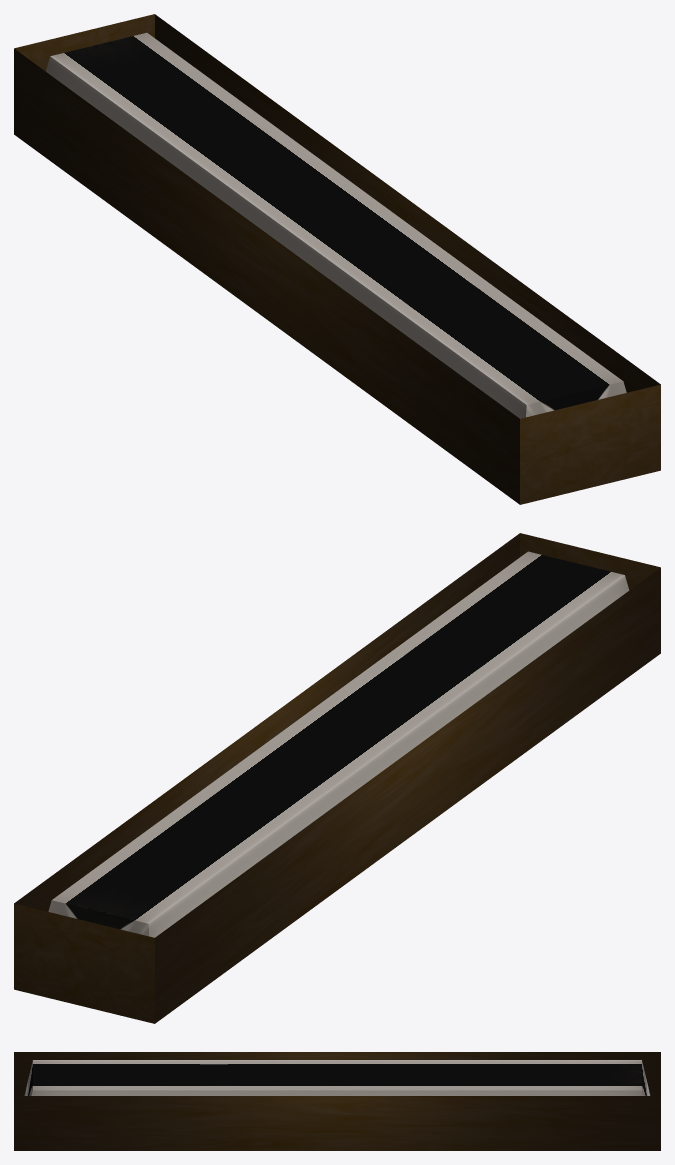
Rendered from Fluorescent Tube.fbx.
The picture shows the model from 3 angles, top to bottom: view 1: azimuth 30°, elevation 25°; view 2: azimuth 150°, elevation 25°; view 3: azimuth 270°, elevation 25°; orthographic projection. The views are drawn at different scales.
Visible parts, largest first — view 1: CeilingLamp; view 2: CeilingLamp; view 3: CeilingLamp.
Part boxes in pixels (x1,y1,x2,y2): CeilingLamp: [14, 14, 660, 504]; CeilingLamp: [14, 533, 660, 1023]; CeilingLamp: [14, 1052, 660, 1150].
Bounding box in the file's own units: 20.92 × 12.22 × 130.
1 material, 1 textured.
